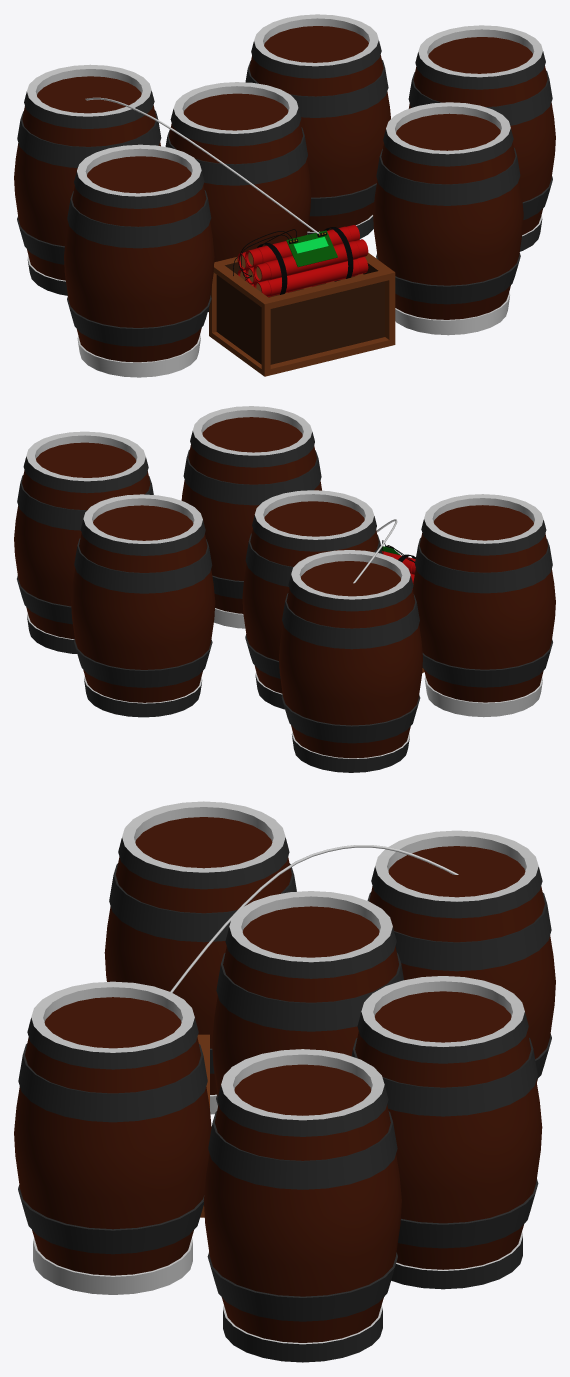
Rendered from bomba2Xtreme.fbx.
The picture shows the model from 3 angles, top to bottom: view 1: azimuth 30°, elevation 25°; view 2: azimuth 150°, elevation 25°; view 3: azimuth 270°, elevation 25°; orthographic projection. The views are drawn at different scales.
Parts seen in each view (by area): view 1: Mesh; view 2: Mesh; view 3: Mesh.
Part boxes in pixels (bbox=[...]): Mesh: bbox=[14, 14, 555, 377]; Mesh: bbox=[14, 406, 555, 772]; Mesh: bbox=[14, 801, 555, 1362].
Size of the model in its own units: 2869 by 1073 by 1970.
